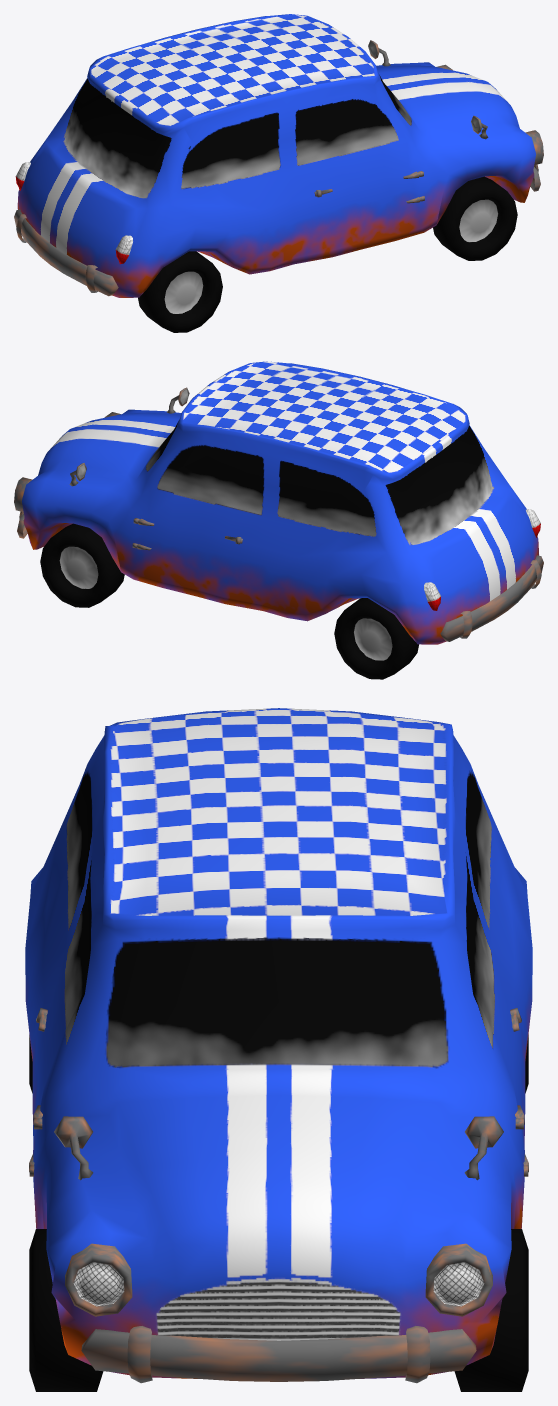
The model's file is STYLOO_Scene_Scene_Collection.fbx.
3 renders of one model, top to bottom at view 1: azimuth 30°, elevation 25°; view 2: azimuth 150°, elevation 25°; view 3: azimuth 270°, elevation 25°, orthographic. The views are drawn at different scales.
Visible parts, largest first — view 1: car, lowpolywheel.004, lowpolywheel.003, Cube.005, backlight, RETROVISEURLOW; view 2: car, lowpolywheel.001, lowpolywheel.002, Cube.005, backlight, RETROVISEURLOW; view 3: car, Cube.004, lightinfront, lowpolywheel.001, lowpolywheel.004, RETROVISEURLOW, Cube.003.
Part boxes in pixels (x1,y1,x2,y2): car: (17,14,536,297); lowpolywheel.004: (433,176,517,260); lowpolywheel.003: (138,251,222,332); Cube.005: (14,209,118,296); backlight: (15,162,132,264); RETROVISEURLOW: (368,40,488,139); car: (21,361,538,644); lowpolywheel.001: (40,523,124,607); lowpolywheel.002: (334,598,418,679); Cube.005: (440,555,543,641); backlight: (424,509,540,610); RETROVISEURLOW: (69,387,189,486); car: (25,708,532,1378); Cube.004: (81,1326,476,1383); lightinfront: (65,1243,492,1316); lowpolywheel.001: (454,1229,528,1391); lowpolywheel.004: (29,1229,103,1391); RETROVISEURLOW: (54,1116,503,1180); Cube.003: (29,1008,528,1176).
Size of the model in its own units: 813 by 346 by 393.
17 materials, 17 textured.
